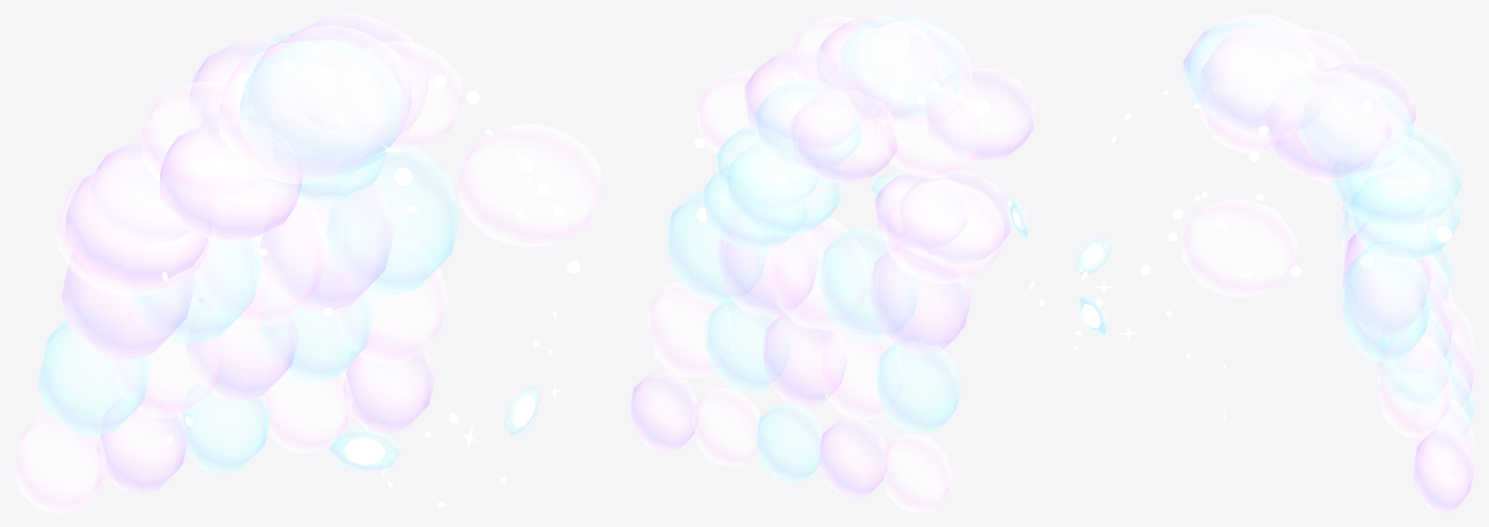
Rendered from star_giant_head.glb.
The picture shows the model from 3 angles, left to right: view 1: azimuth 30°, elevation 25°; view 2: azimuth 150°, elevation 25°; view 3: azimuth 270°, elevation 25°; orthographic projection. The views are drawn at different scales.
Parts seen in each view (by area): view 1: star_giant_head; view 2: star_giant_head; view 3: star_giant_head.
Part boxes in pixels (x1=…): star_giant_head: x1=14, y1=14, x2=600, y2=512; star_giant_head: x1=629, y1=14, x2=1044, y2=512; star_giant_head: x1=1073, y1=14, x2=1474, y2=512.
Size of the model in its own units: 1.15 by 1.27 by 1.12.
